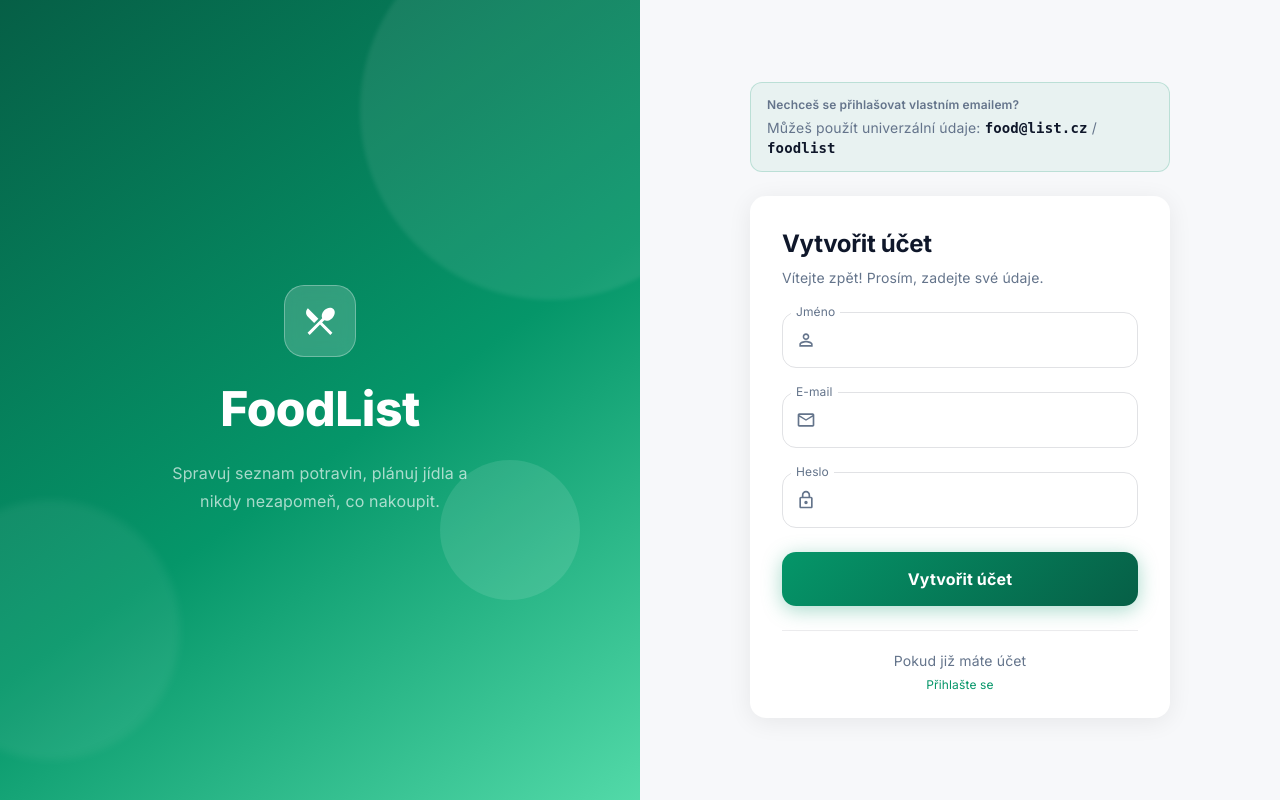
AuthForm – Registrace › should show server error when user with email already exists
# Vyplníme platná data – server ale „vrátí“, že e-mail už je obsazen
Type "Test User" into the field labelled "Jméno" at (982, 340), box [826,312,1138,368]
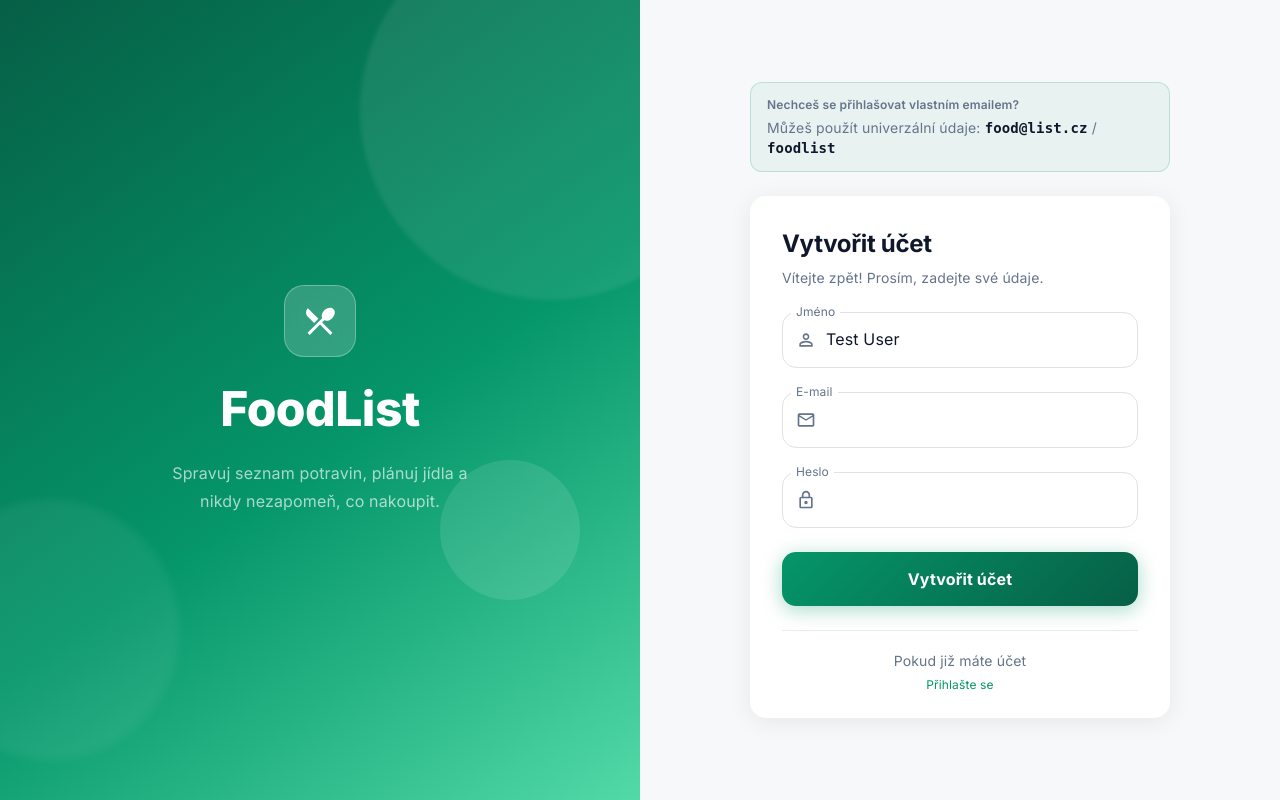
Type "existing@example.com" into the field labelled "E-mail" at (982, 420), box [826,392,1138,448]
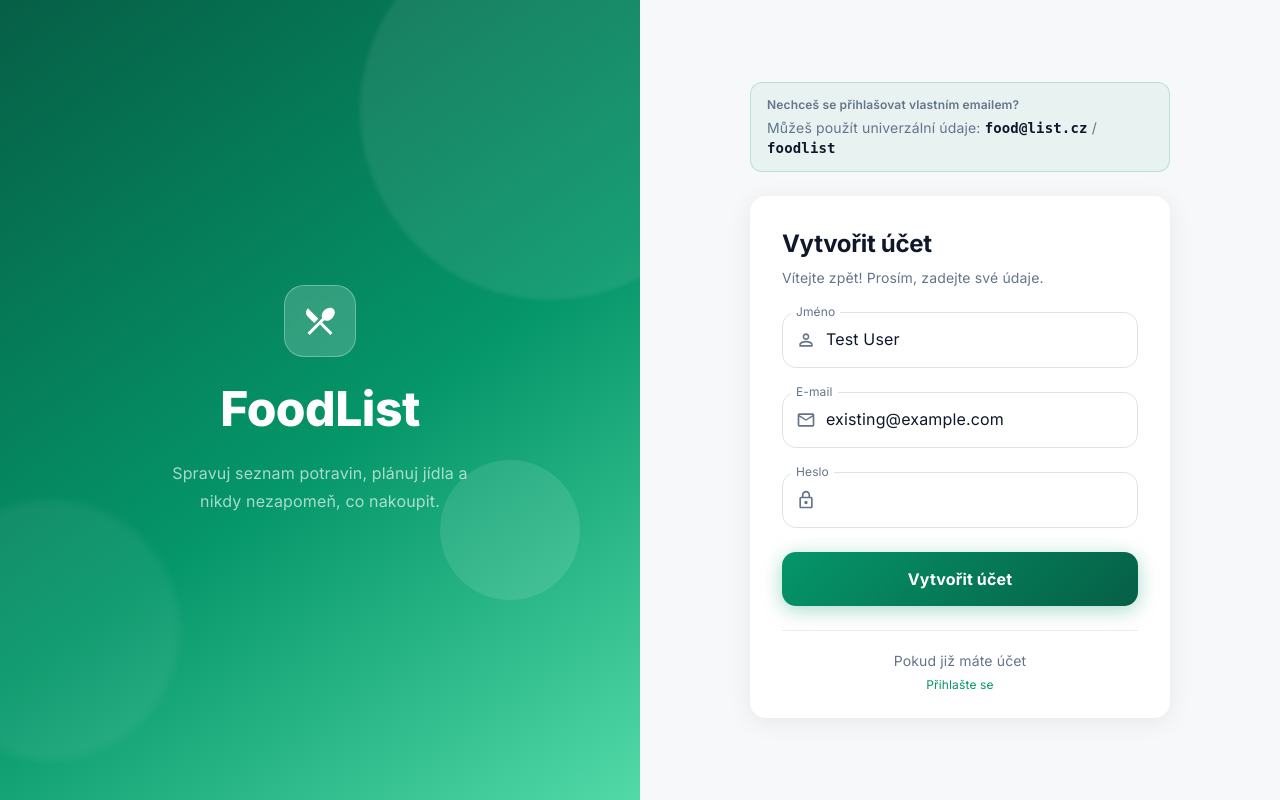
Type "heslo123" into the password field labelled "Heslo" at (982, 500), box [826,472,1138,528]
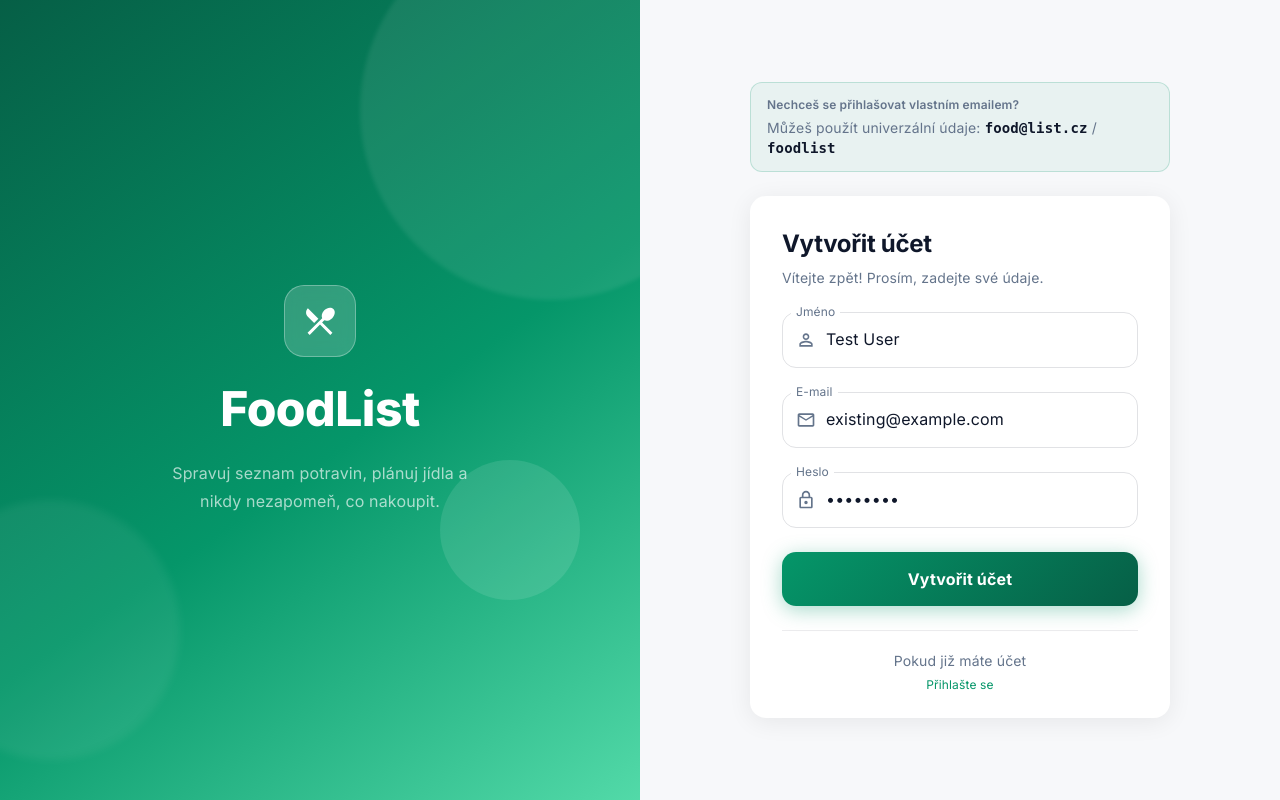
Click the button "Vytvořit účet" at (960, 579), box [782,552,1138,606]
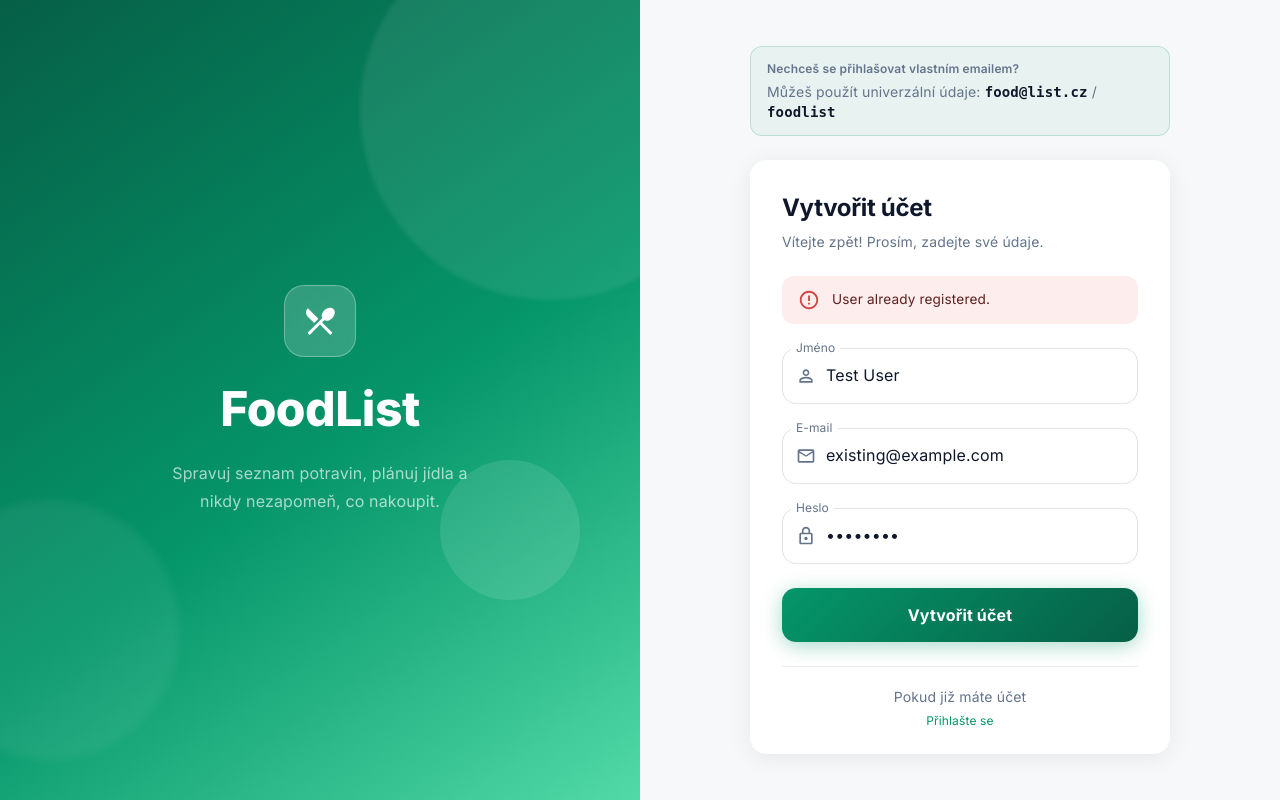
Expected: the message "User already registered." is shown, [782,276,1138,324]
